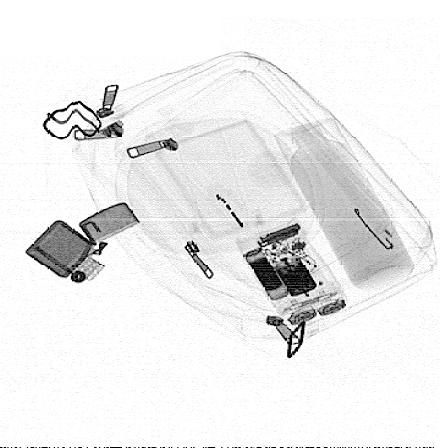Lighter: (25, 201, 140, 283)
